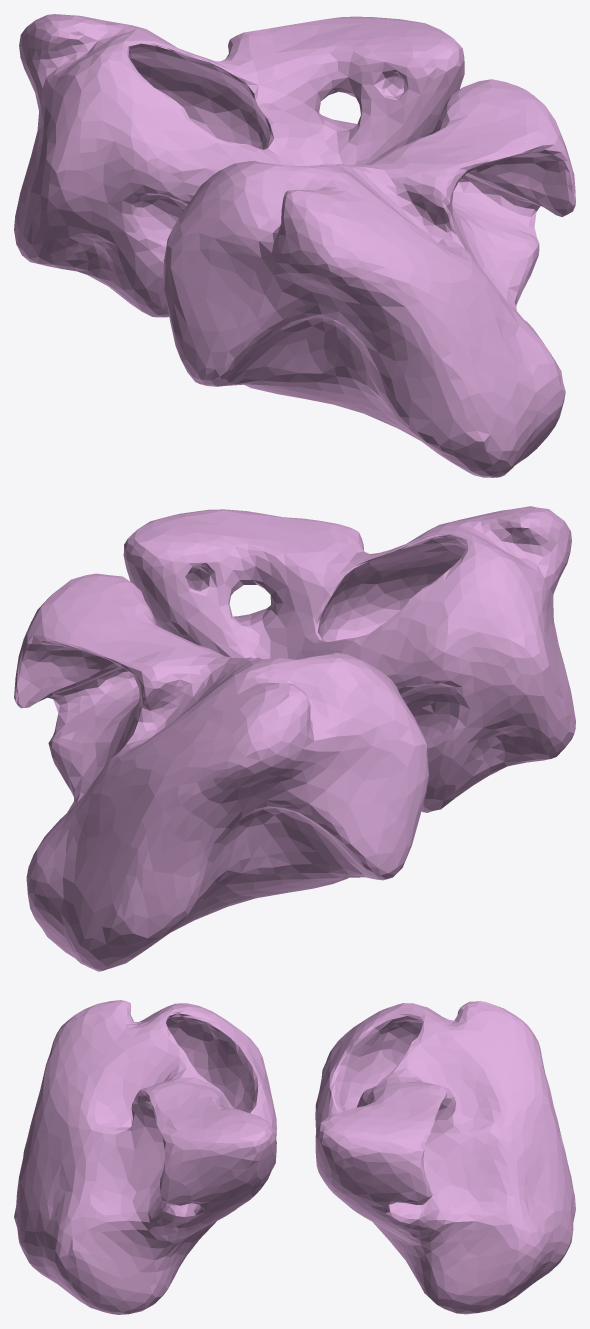
The picture shows the model from 3 angles, top to bottom: view 1: azimuth 30°, elevation 25°; view 2: azimuth 150°, elevation 25°; view 3: azimuth 270°, elevation 25°; orthographic projection. The views are drawn at different scales.
Visible parts, largest first — view 1: 128.obj; view 2: 128.obj; view 3: 128.obj.
Part boxes in pixels (<box>): 128.obj: <box>14,14,575,477</box>; 128.obj: <box>14,506,575,971</box>; 128.obj: <box>14,1000,575,1314</box>.
Bounding box in the file's own units: 2517 × 1869 × 4080.
